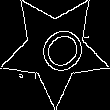O_SW: (24, 17, 86, 82)
